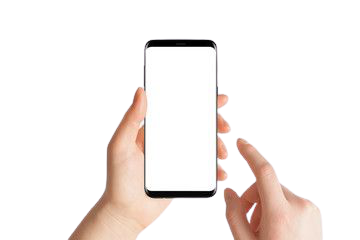phone: (143, 37, 220, 200)
